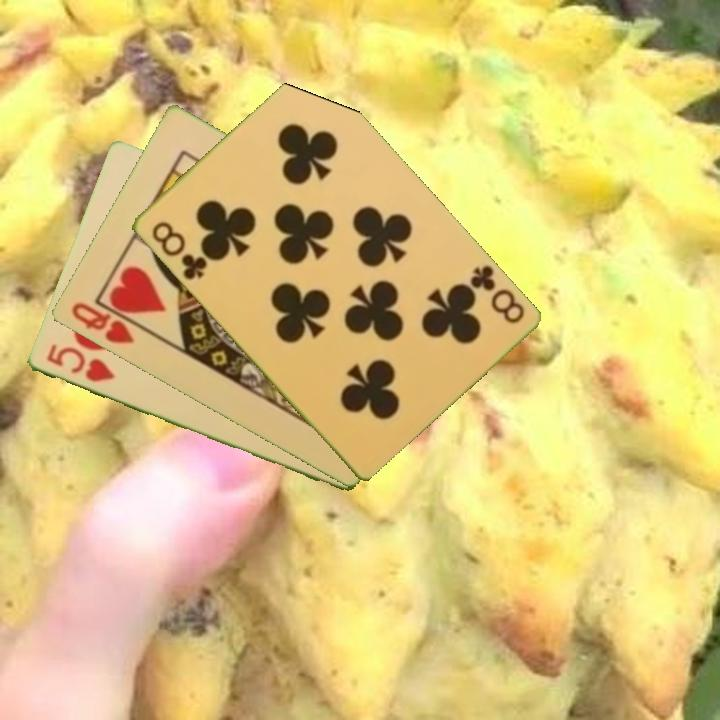5h: (42, 340, 118, 385)
8c: (148, 217, 210, 283), (465, 261, 527, 327)
Qh: (67, 298, 147, 347)
